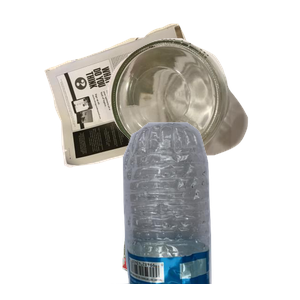glass: (105, 36, 300, 201)
paper: (42, 21, 249, 181)
plastic: (111, 120, 300, 300)
trash: (120, 131, 290, 300)
